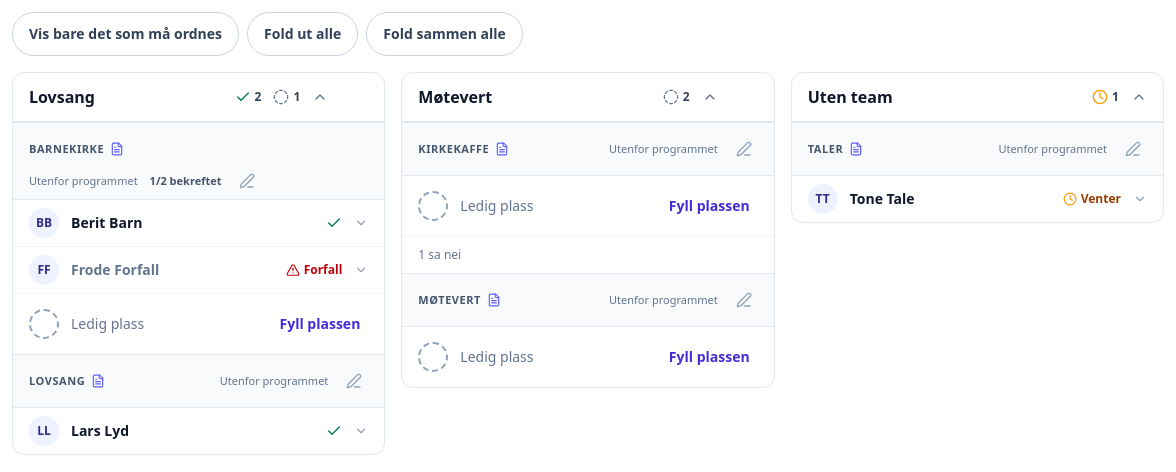
Test: Filteret «Vis bare det som må ordnes» › viser bare forfall og ubesatt, og skjuler team uten dem
Click the button "Vis bare det som må ordnes".
click(126, 34)  # box top-left (12, 12), bottom-right (239, 56)
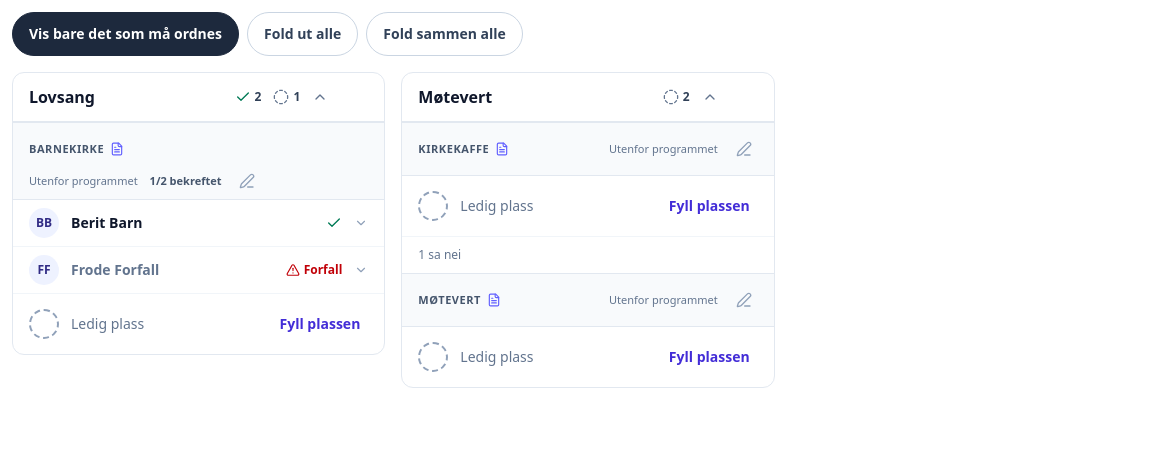
Expected: the element with id "roster-Lovsang" is gone
Expected: the element with id "roster-Taler" is gone
Expected: the button "Uten team" is gone
